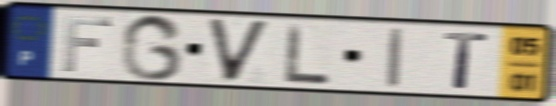F: (60, 14, 116, 74)
G: (117, 12, 186, 83)
I: (384, 25, 407, 91)
L: (284, 21, 333, 86)
T: (441, 30, 491, 92)
V: (203, 16, 275, 85)
